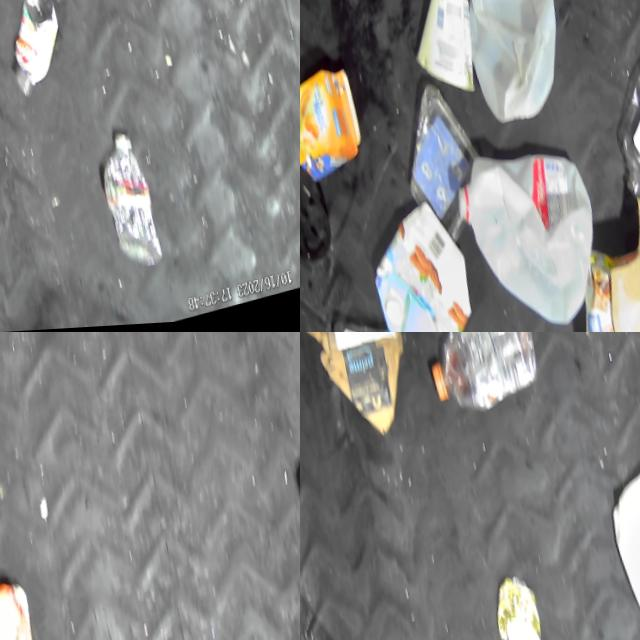can: (492, 573, 558, 640)
milk_jug: (444, 127, 614, 332), (448, 0, 578, 131)
plastic_bottle: (419, 332, 539, 420), (99, 132, 166, 283)
